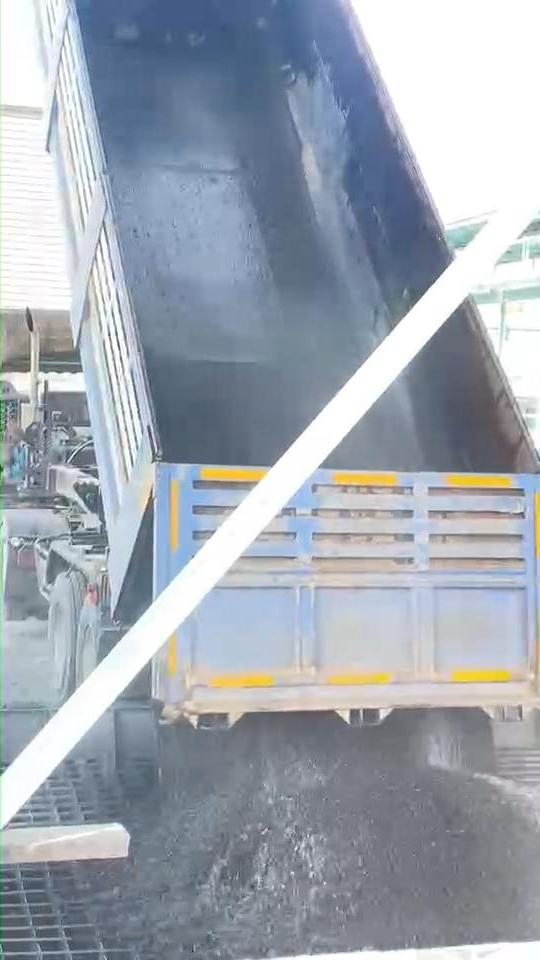gravel: (85, 717, 540, 959)
